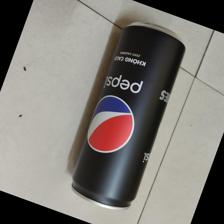Pepsi: (69, 19, 188, 213)
